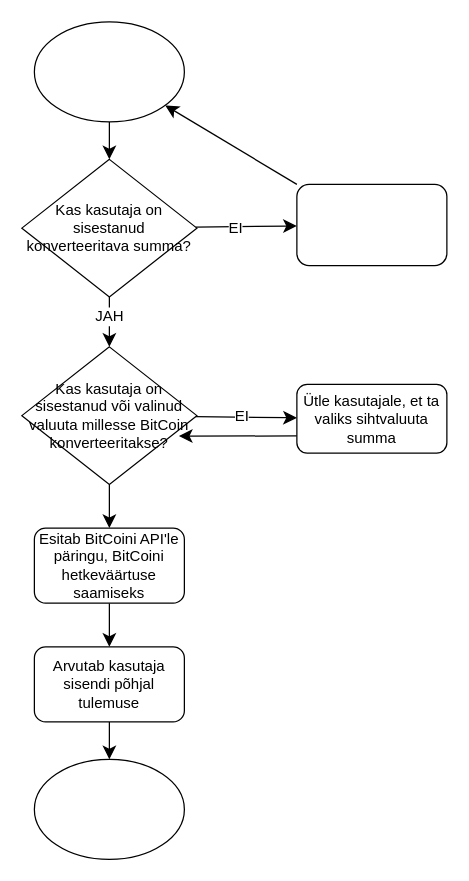
Image size: 469x881. Some labels were removed from this diagram. The centre of each missing label's shape, as x and y in pixels:
"LÕPP" goes at (x=108, y=808).
"START" goes at (x=108, y=71).
"Ütle kasutajale, et ta sisestaks arvväärtuse mida konveteerida valuutaks." goes at (x=371, y=224).
